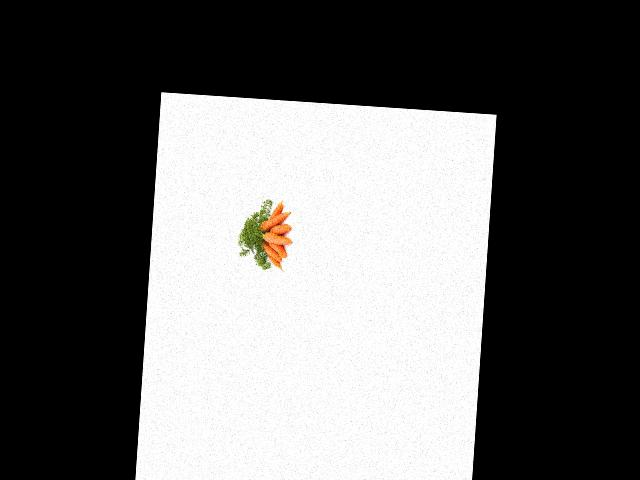carrot: (267, 200, 286, 224)
